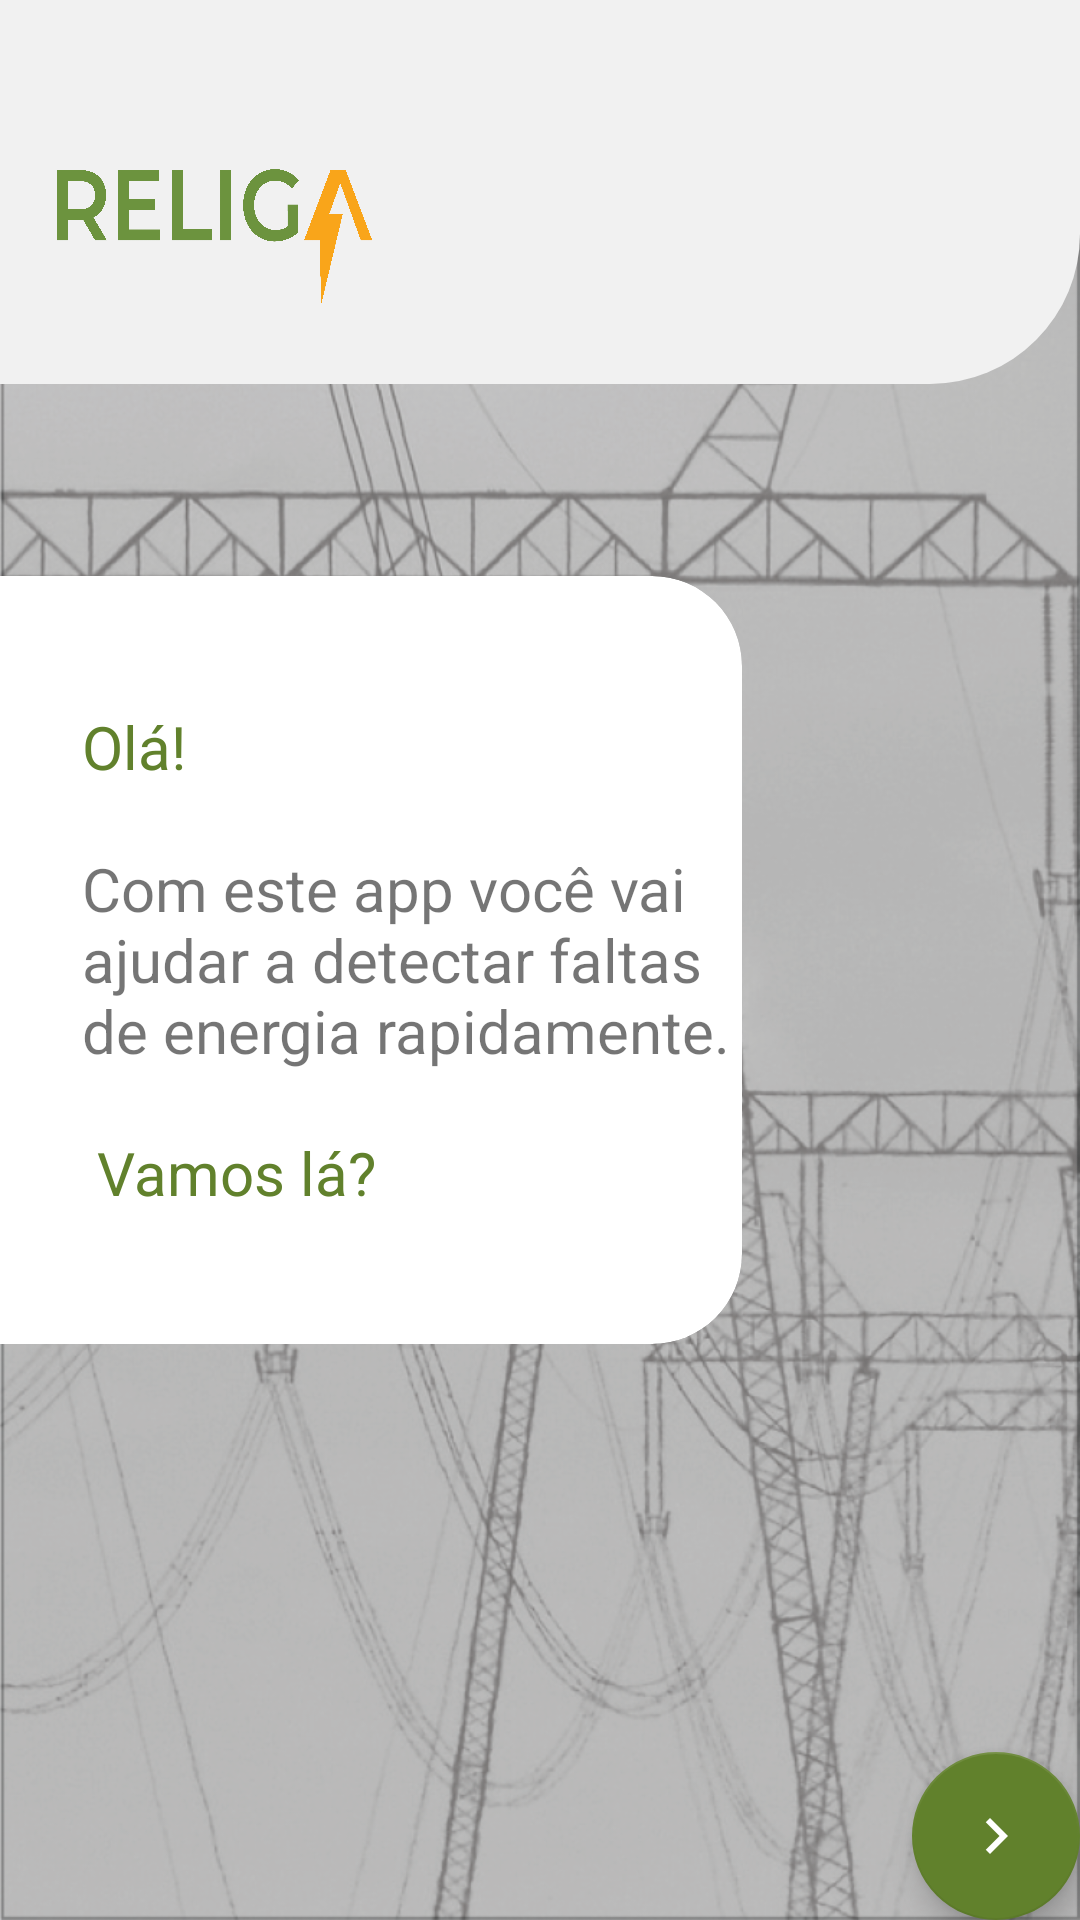

Where icons sit on this 1080 × 1920 app screen, as (x1, y1, x2, y2):
chevron right: (912, 1752, 1080, 1920)
